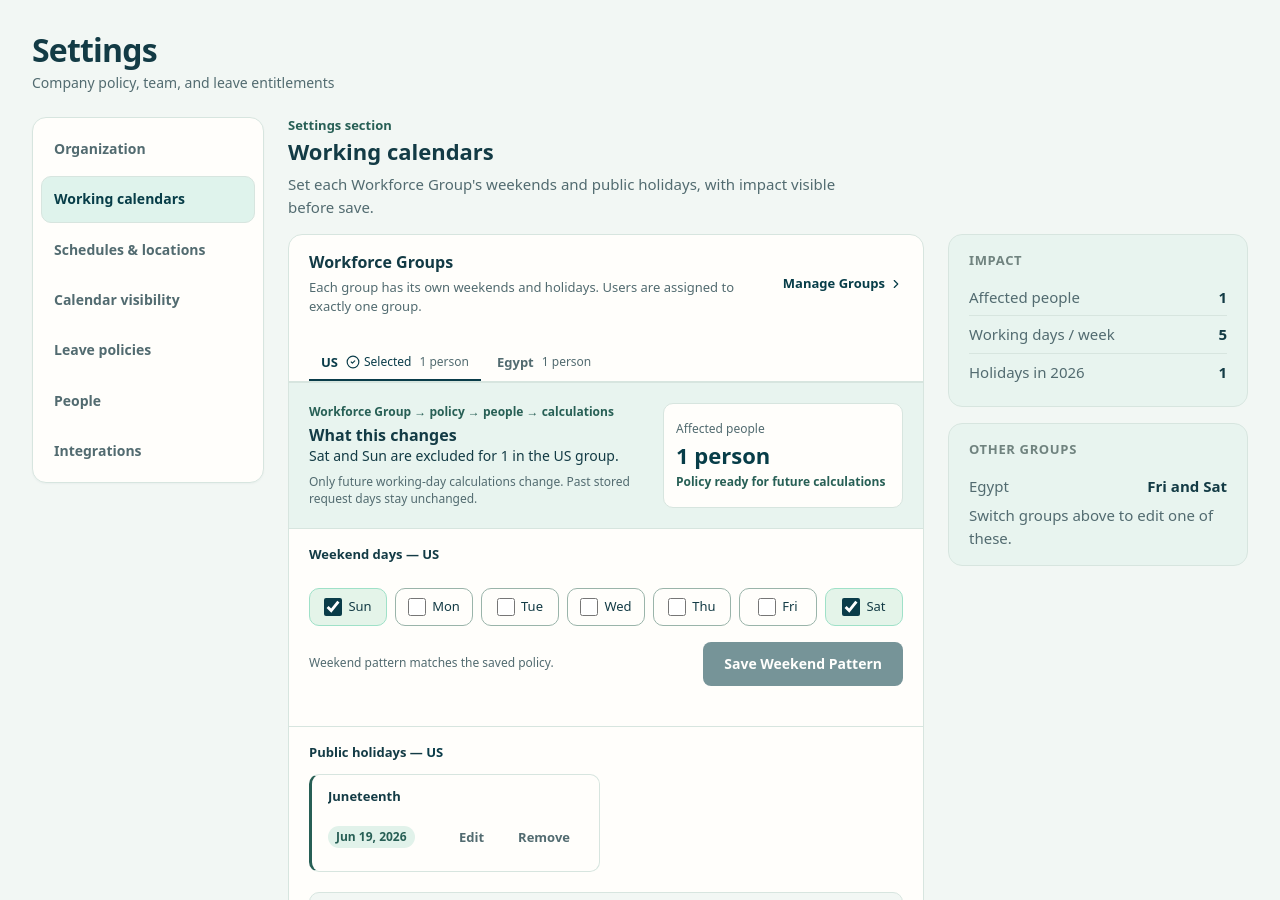
Scenario: SettingsInformationArchitecture ATDD — Story 11.5 › [P0] Given Working calendars draft with zero weekend days selected, When Save is activated, Then save cannot proceed and impact stays visible
Deselect all weekend chips into an invalid draft.
Click the checkbox named "Sat weekend day for US" at (851, 607), box [842,598,860,616]
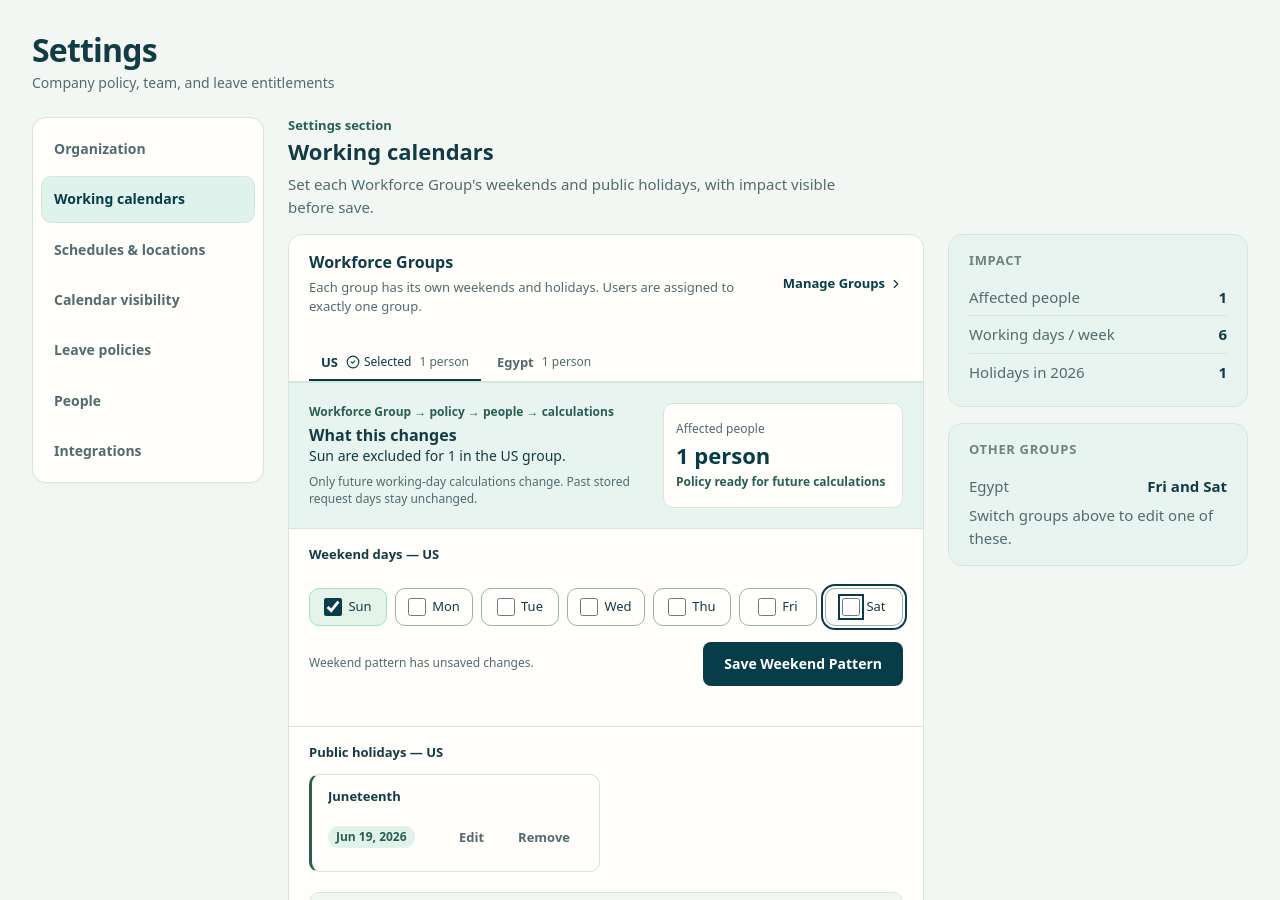
Click the checkbox named "Sun weekend day for US" at (333, 607), box [324,598,342,616]
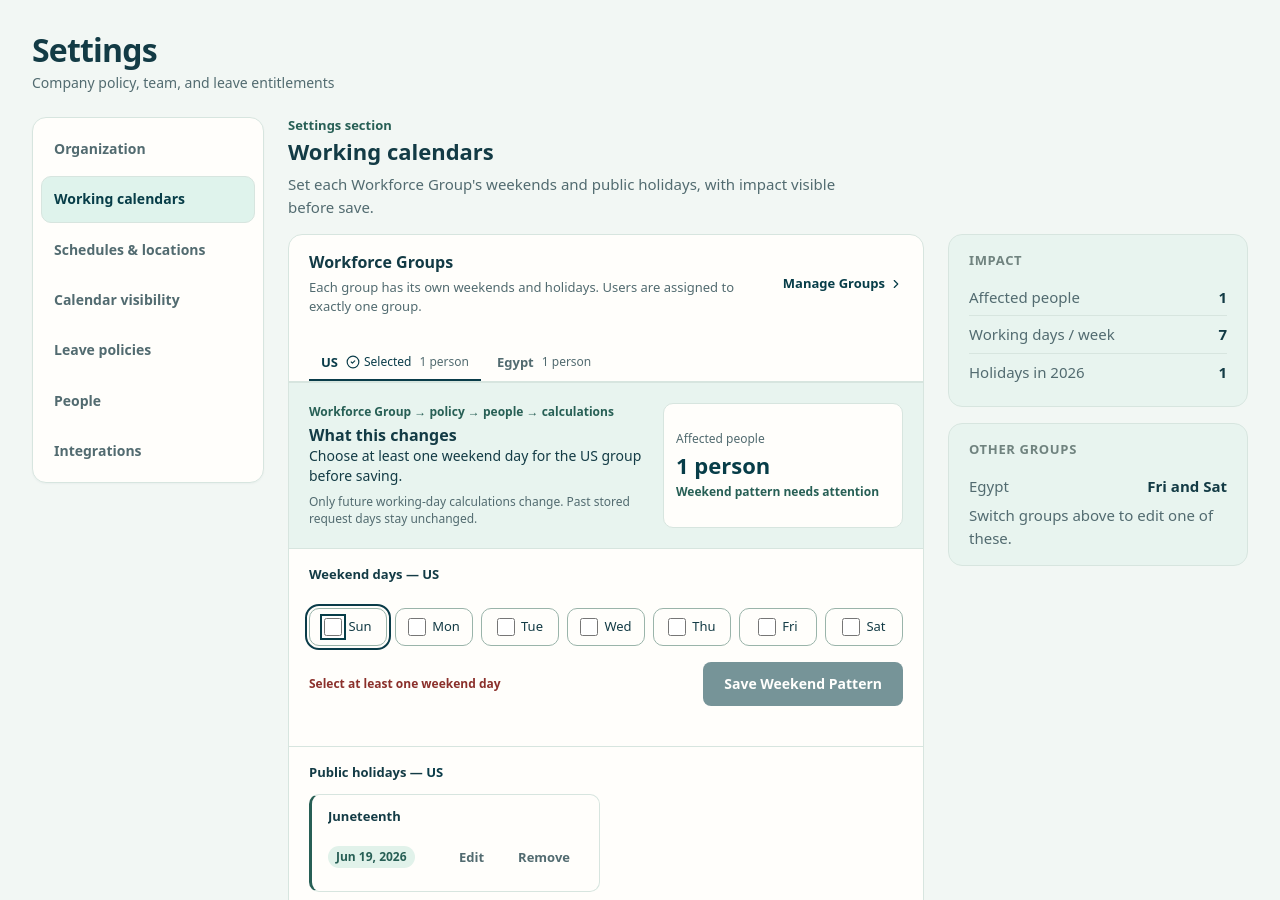
Expected: the element with test id "working-calendars-impact" is shown, [289,382,923,549]
Expected: the button with test id "working-calendars-save-btn" is disabled, [703,662,903,706]
